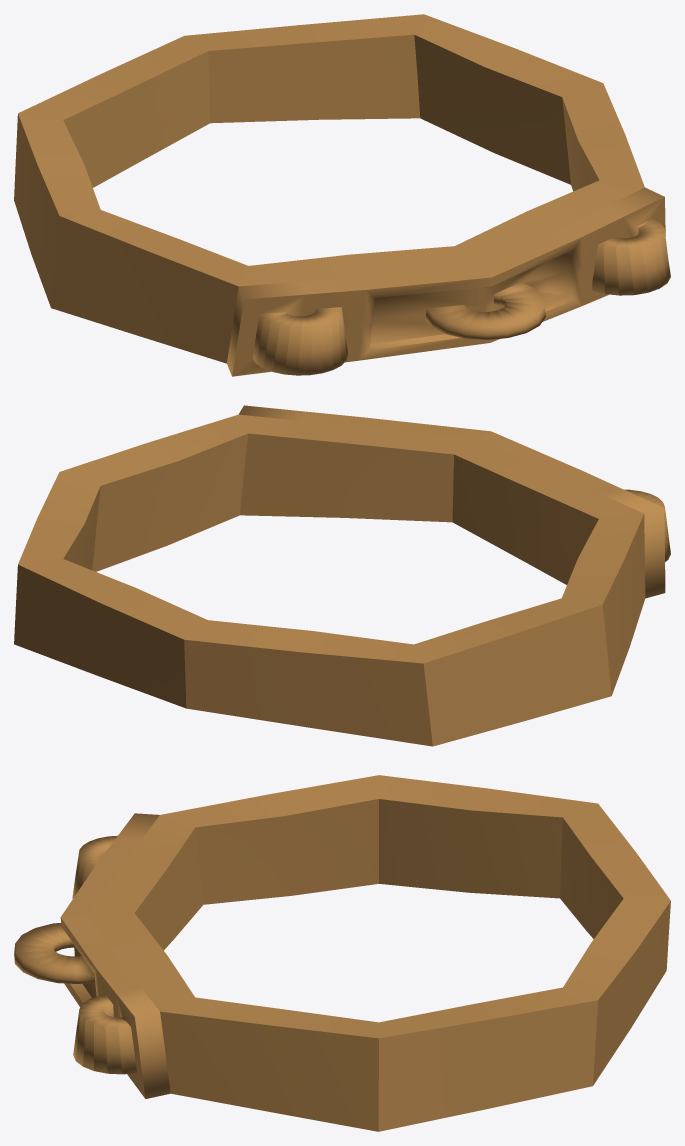
Rendered from ToolBelt.fbx.
The picture shows the model from 3 angles, top to bottom: view 1: azimuth 30°, elevation 25°; view 2: azimuth 150°, elevation 25°; view 3: azimuth 270°, elevation 25°; orthographic projection.
Visible parts, largest first — view 1: ToolBelt; view 2: ToolBelt; view 3: ToolBelt.
Boxes of the visible parts, x1,y1,x2,y2 form: ToolBelt: (14, 14, 670, 376); ToolBelt: (14, 405, 670, 746); ToolBelt: (14, 775, 670, 1131).
Size of the model in its own units: 315 by 54.68 by 322.
